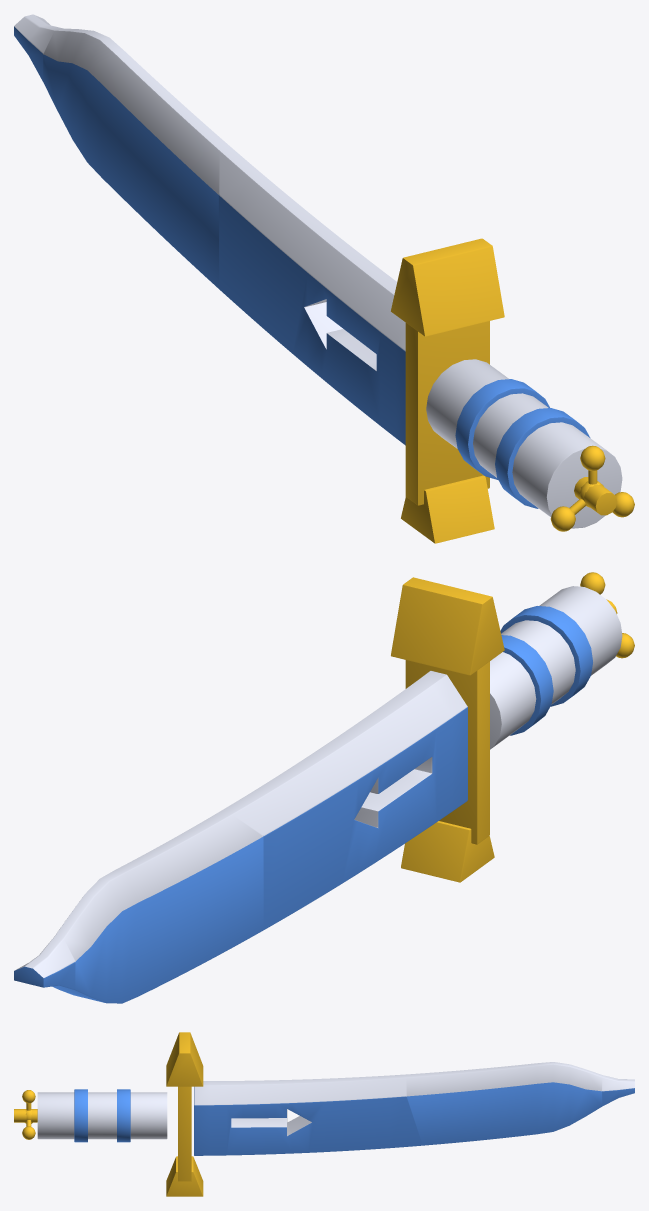
The model's file is Sword_WeathervaneSabre.glb.
The picture shows the model from 3 angles, top to bottom: view 1: azimuth 30°, elevation 25°; view 2: azimuth 150°, elevation 25°; view 3: azimuth 270°, elevation 25°; orthographic projection. The views are drawn at different scales.
Visible parts, largest first — view 1: Sword_WeathervaneSabre; view 2: Sword_WeathervaneSabre; view 3: Sword_WeathervaneSabre.
Part boxes in pixels (<box>): Sword_WeathervaneSabre: <box>14,14,634,543</box>; Sword_WeathervaneSabre: <box>14,572,634,1003</box>; Sword_WeathervaneSabre: <box>14,1032,634,1196</box>.
Size of the model in its own units: 0.086 by 0.26 by 1.
1 material, 1 textured.
